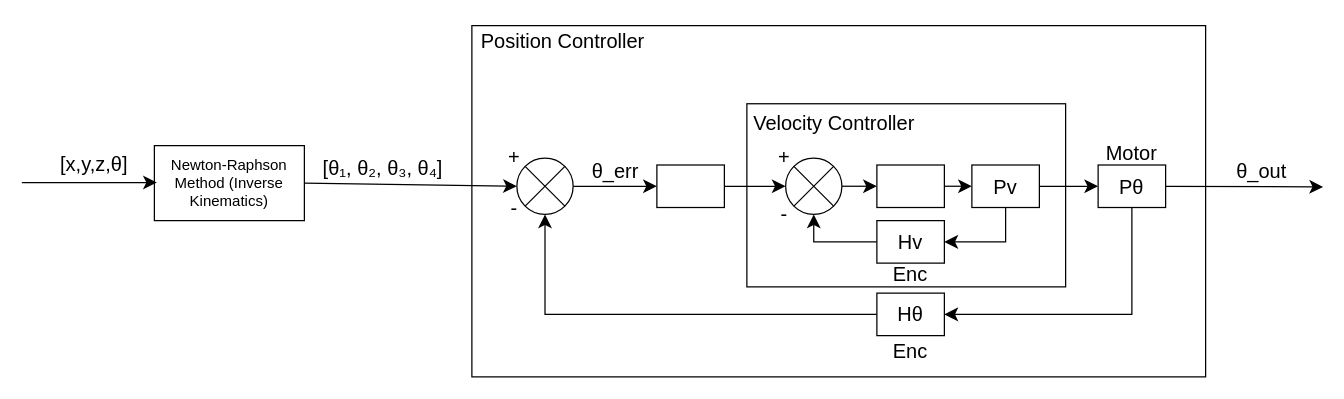
The diagram is 1344 pixels wide and 399 high, and some of its shapes have lost their labels. The centre of each missing label's shape, as x and y in pixels:
"Kv" goes at (x=910, y=186).
"Kθ" goes at (x=690, y=186).
